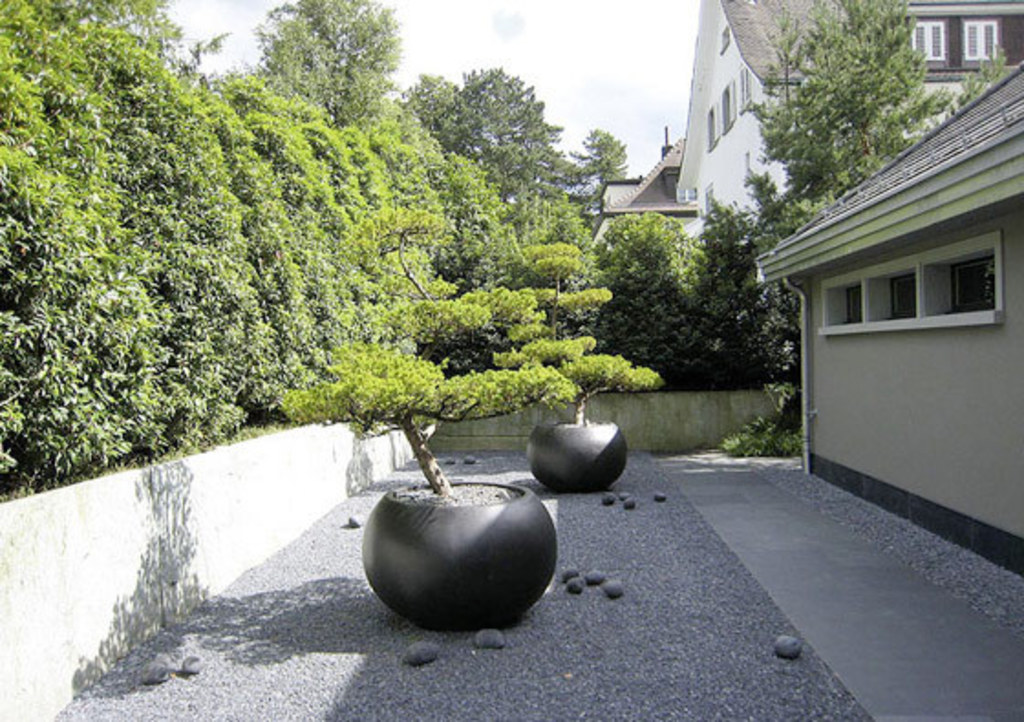Tree: (0, 0, 522, 497), (720, 0, 1011, 453), (274, 199, 581, 506), (488, 230, 663, 438), (581, 208, 733, 403), (696, 164, 797, 389), (237, 7, 413, 129), (460, 65, 570, 232), (394, 69, 471, 164), (574, 122, 634, 224)
